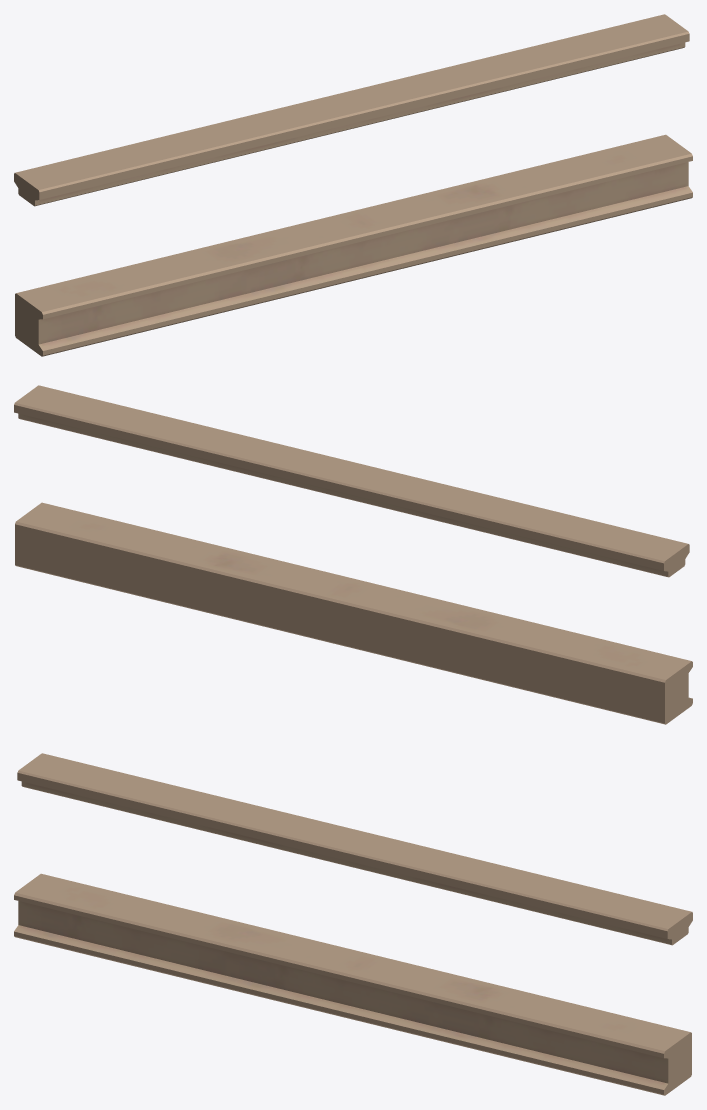
The model's file is CeilingBeamLow.fbx.
3 renders of one model, top to bottom at view 1: azimuth 30°, elevation 25°; view 2: azimuth 150°, elevation 25°; view 3: azimuth 330°, elevation 25°, orthographic.
Visible parts, largest first — view 1: CeilingBeamLow (4), bannisterTop; view 2: CeilingBeamLow (4), bannisterTop; view 3: CeilingBeamLow (4), bannisterTop.
Part boxes in pixels (x1,y1,x2,y2): CeilingBeamLow (4): [15, 134, 692, 356]; bannisterTop: [14, 14, 689, 206]; CeilingBeamLow (4): [15, 502, 692, 724]; bannisterTop: [14, 385, 689, 577]; CeilingBeamLow (4): [14, 873, 691, 1095]; bannisterTop: [17, 753, 692, 945].
Size of the model in its own units: 1500 by 362 by 116.
Materials: 2 (2 with a texture image).
